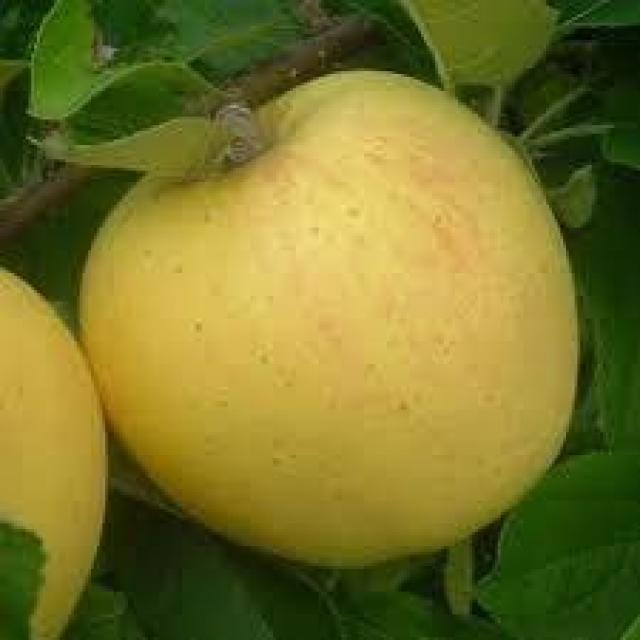Fresh Apple: (81, 68, 592, 577)
